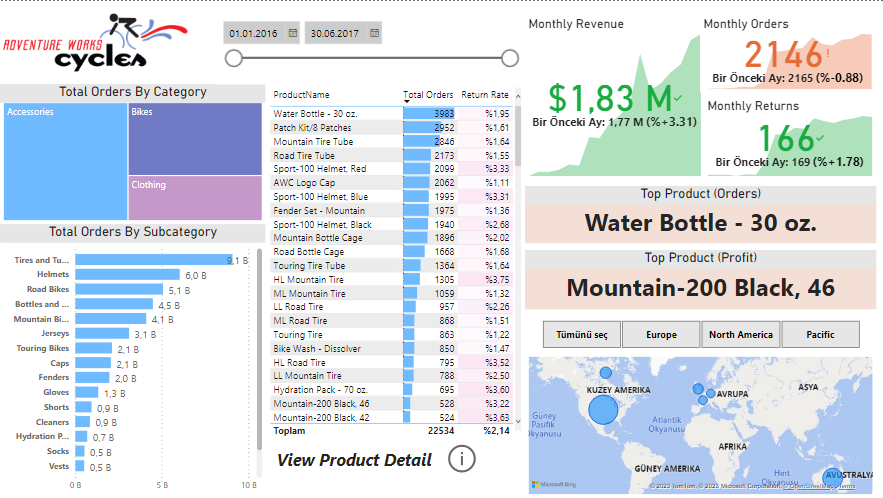

The page's visual inventory and layout, read from the dashboard file:
{"tool":"powerbi","page":{"name":"Exec Summary","canvas":[1280,720],"ordinal":0},"visuals":[{"type":"image","box":[0,0,280,120],"z":0},{"type":"barChart","title":"Total Orders By Subcategory","fields":{"Y":["AW_Sales.Total Orders"],"Category":["AW_Product_Subcategory_Lookup.SubcategoryName"]},"box":[0,323.4,385.1,396.6],"z":1000},{"type":"treemap","title":"Total Orders By Category","fields":{"Group":["AW_Product_Category_Lookup.CategoryName","AW_Product_Subcategory_Lookup.SubcategoryName"],"Values":["AW_Sales.Total Orders"]},"box":[0,120.7,385.1,202.6],"z":2000},{"type":"tableEx","fields":{"Values":["AW_Product_Lookup.ProductName","AW_Sales.Total Orders","AW_Returns.Return Rate"]},"box":[385.1,120.7,375.1,515.9],"z":3000},{"type":"slicer","fields":{"Values":["AW_Calendar_Lookup.Date"]},"box":[310.4,18.7,449.8,102],"z":4000},{"type":"kpi","title":"Monthly Revenue","fields":{"Indicator":["AW_Sales.Total Revenue"],"TrendLine":["AW_Calendar_Lookup.Ay Başı"],"Goal":["AW_Sales.Prev Month Revenue"]},"box":[760.2,21.6,260.1,237.1],"z":5000},{"type":"kpi","title":"Monthly Returns","fields":{"TrendLine":["AW_Calendar_Lookup.Ay Başı"],"Indicator":["AW_Returns.Total Returns"],"Goal":["AW_Returns.Prev Month Returns"]},"box":[1020.4,140.8,248.6,117.8],"z":6000},{"type":"kpi","title":"Monthly Orders","fields":{"TrendLine":["AW_Calendar_Lookup.Ay Başı"],"Indicator":["AW_Sales.Total Orders"],"Goal":["AW_Sales.Prev Month Orders"]},"box":[1014.6,21.6,254.4,110.7],"z":7000},{"type":"card","title":"Top Product (Orders)","fields":{"Values":["Min(AW_Product_Lookup.ProductName)"]},"box":[760.2,268.7,508.7,83.4],"z":8000},{"type":"card","title":"Top Product (Profit)","fields":{"Values":["Min(AW_Product_Lookup.ProductName)"]},"box":[760.2,360.7,508.7,86.2],"z":9000},{"type":"map","fields":{"Size":["AW_Sales.Total Orders"],"Category":["AW_Territories_Lookup.Country"]},"box":[760.2,510.2,508.7,209.8],"z":10000},{"type":"slicer","fields":{"Values":["AW_Territories_Lookup.Continent"]},"box":[760.2,457,508.7,53.2],"z":11000},{"type":"textbox","box":[395.2,643.8,300.4,54.6],"z":12000},{"type":"actionButton","box":[643.8,636.6,51.7,54.6],"z":13000}]}

Visuals, with their boxes in screenshot pixels (x1, y1, x2, y2), scaled from the page's 1280x720 canvas onto the 883x498 screenshot:
image: <bbox>0, 0, 193, 83</bbox>
"Total Orders By Subcategory" barChart: <bbox>0, 224, 266, 497</bbox>
"Total Orders By Category" treemap: <bbox>0, 83, 266, 224</bbox>
tableEx - AW_Product_Lookup.ProductName x AW_Sales.Total Orders: <bbox>266, 83, 524, 440</bbox>
slicer - AW_Calendar_Lookup.Date: <bbox>214, 13, 524, 83</bbox>
"Monthly Revenue" kpi: <bbox>524, 15, 704, 179</bbox>
"Monthly Returns" kpi: <bbox>704, 97, 875, 179</bbox>
"Monthly Orders" kpi: <bbox>700, 15, 875, 92</bbox>
"Top Product (Orders)" card: <bbox>524, 186, 875, 244</bbox>
"Top Product (Profit)" card: <bbox>524, 249, 875, 309</bbox>
map - AW_Sales.Total Orders x AW_Territories_Lookup.Country: <bbox>524, 353, 875, 497</bbox>
slicer - AW_Territories_Lookup.Continent: <bbox>524, 316, 875, 353</bbox>
textbox: <bbox>273, 445, 480, 483</bbox>
actionButton: <bbox>444, 440, 480, 478</bbox>
